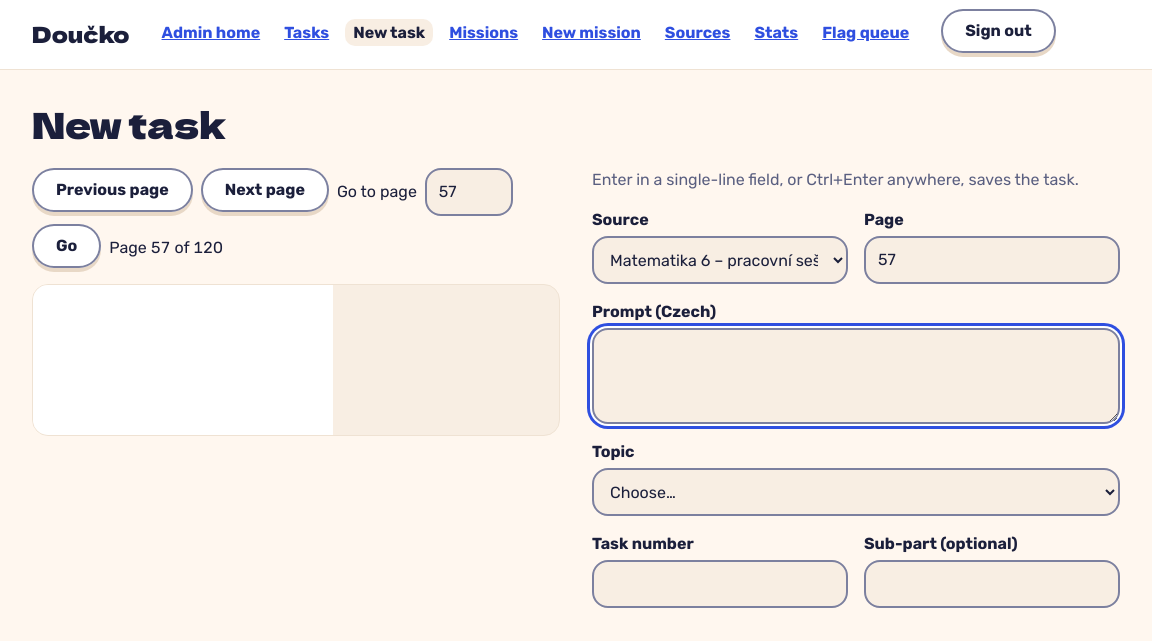
Test: new task form (FR-3) › lists a refusal on a path without its own field in the form alert
Expected: the heading "New task" is shown, [32,97,226,149]
Expected: the dropdown labelled "Source" shows "Matematika 6 – pracovní sešit", [592,236,848,284]
Type "Kolik je 7 + 5?" into the text box labelled "Prompt (Czech)".
click(856, 376); type("Kolik je 7 + 5?")  # box [592,328,1120,424]
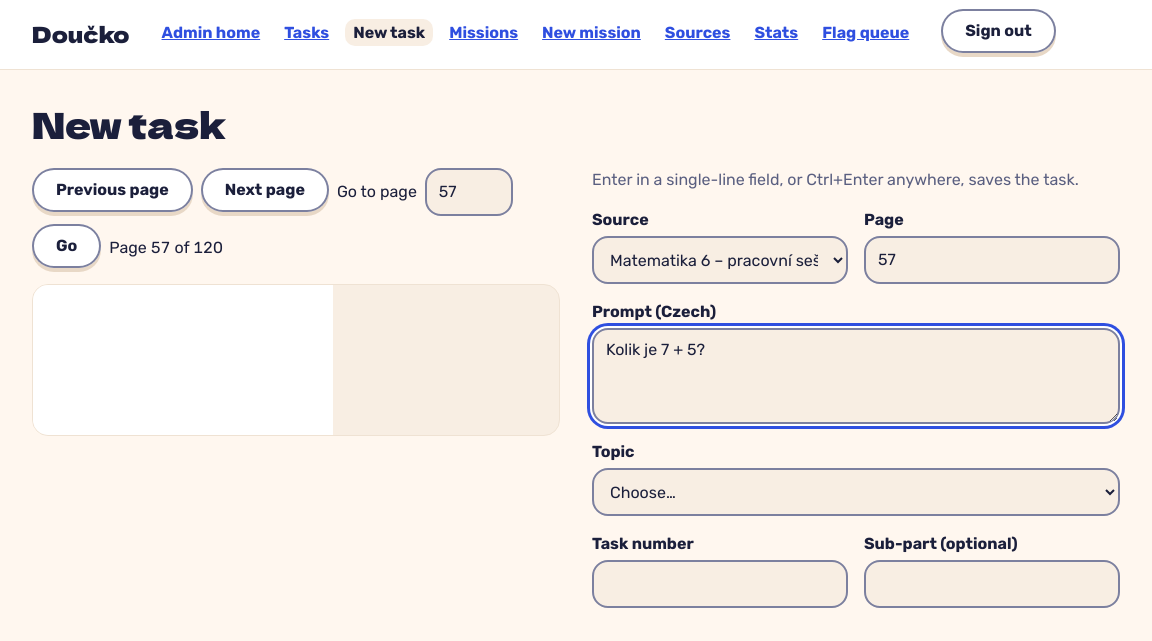
Select "Desetinná čísla" in the dropdown labelled "Topic" at (856, 492), box [592,468,1120,516]
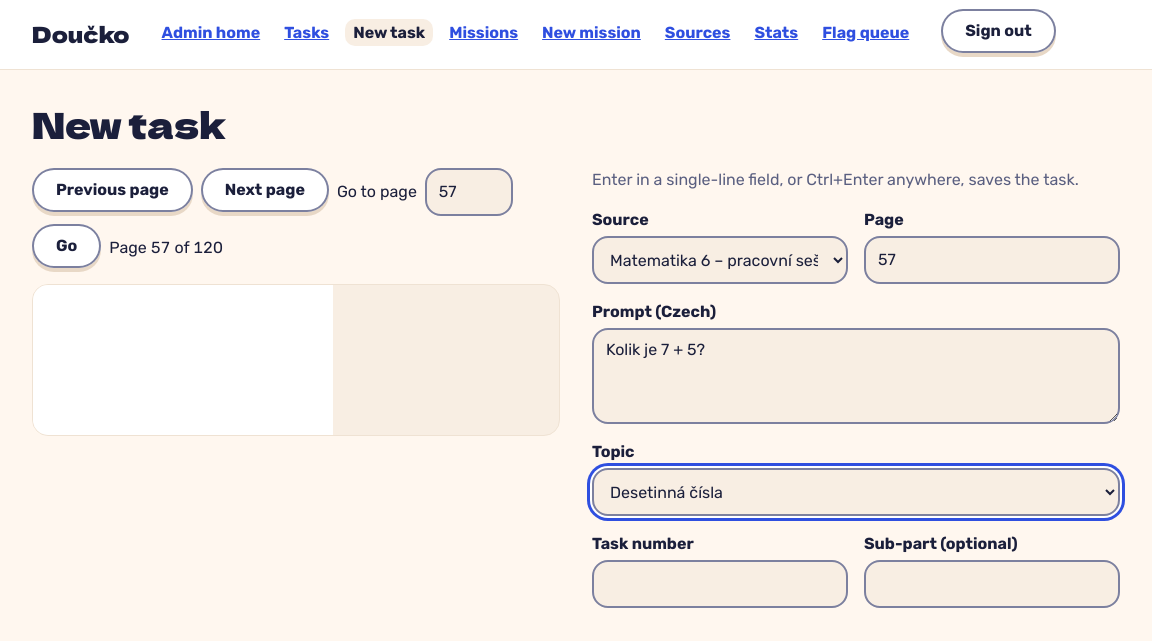
Type "4" into the field labelled "Task number".
click(720, 584); type("4")  # box [592,560,848,608]
(page scrolled)
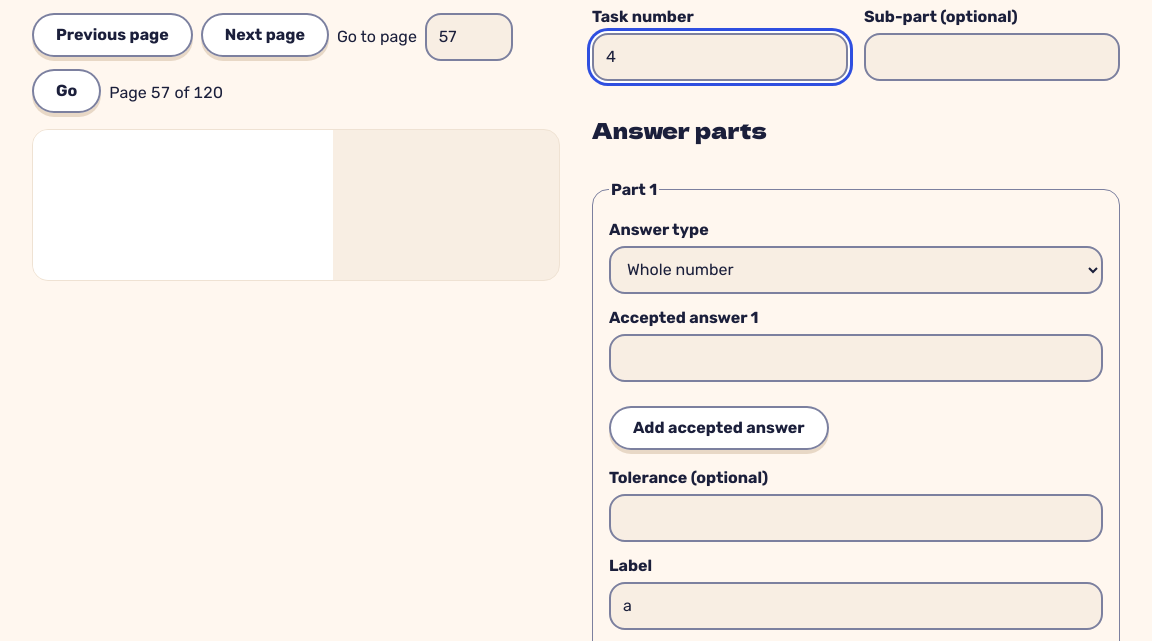
Type "12" into the field labelled "Accepted answer 1".
click(856, 358); type("12")  # box [609,334,1103,382]
(page scrolled)
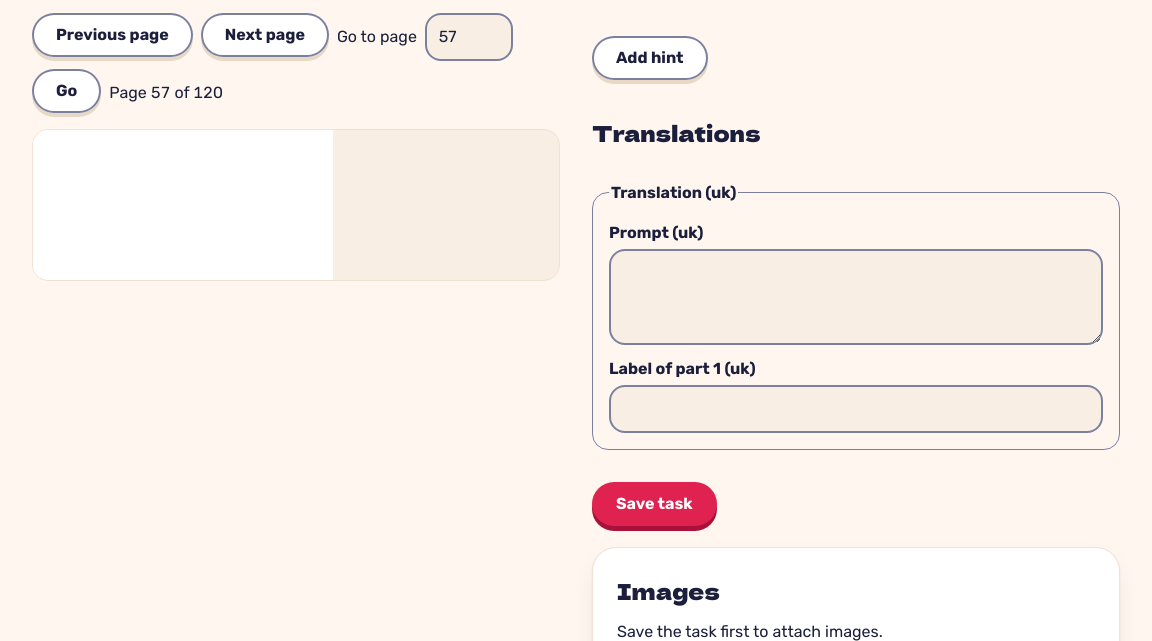
Click the button "Save task".
click(654, 504)  # box [592,482,717,526]
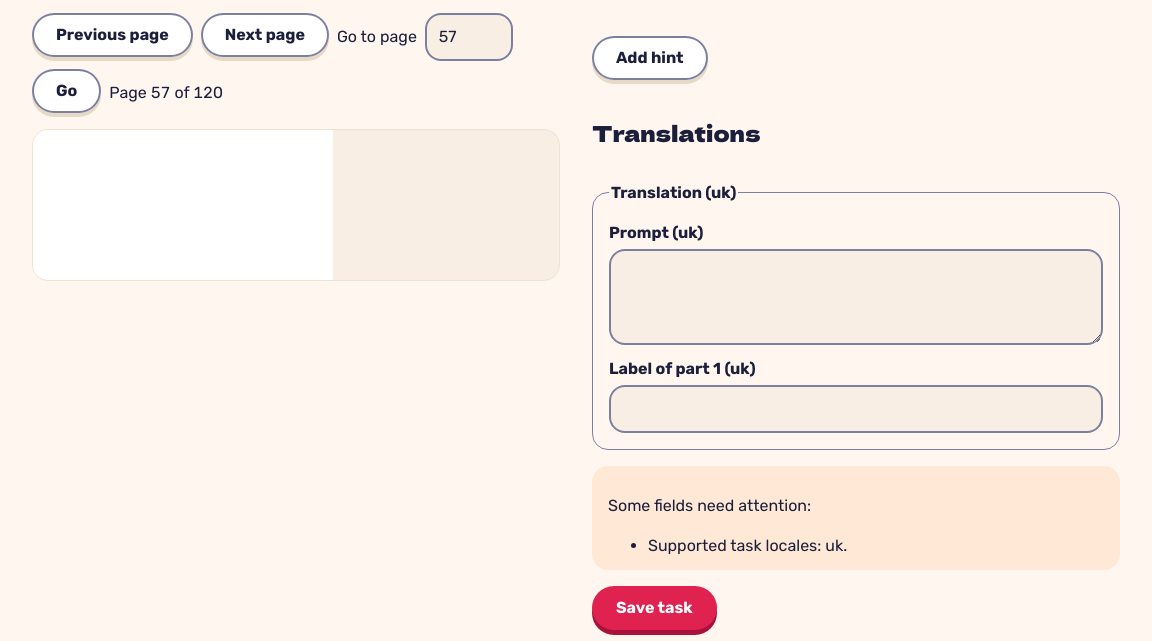
Result: the message shows "Some fields need attention:" at [608,496,811,514]
Result: the message shows "Supported task locales: uk." at [648,536,847,554]
